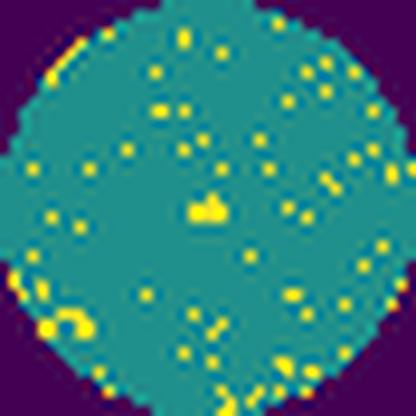Center: (186, 184, 233, 233)
